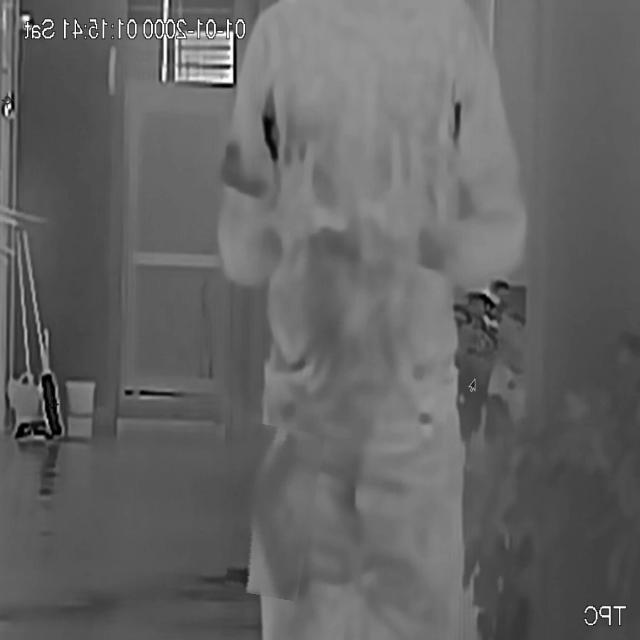Weapon: (231, 424, 319, 598)
